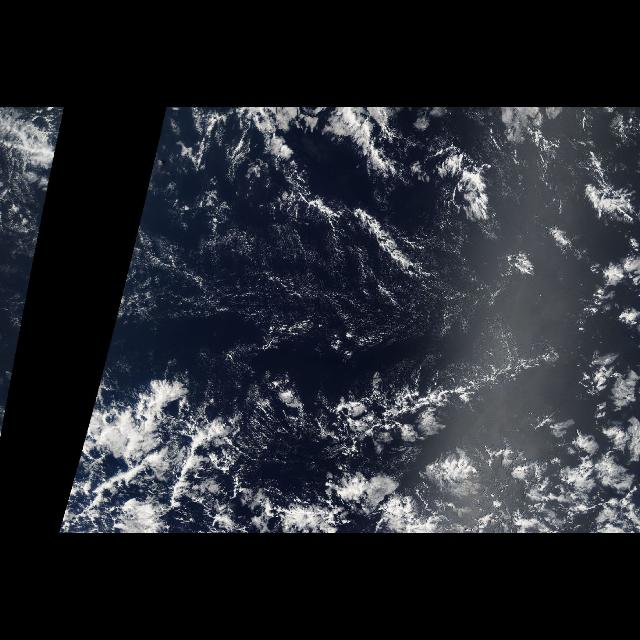Fish: (346, 372, 554, 454)
Sugar: (109, 219, 576, 379)
